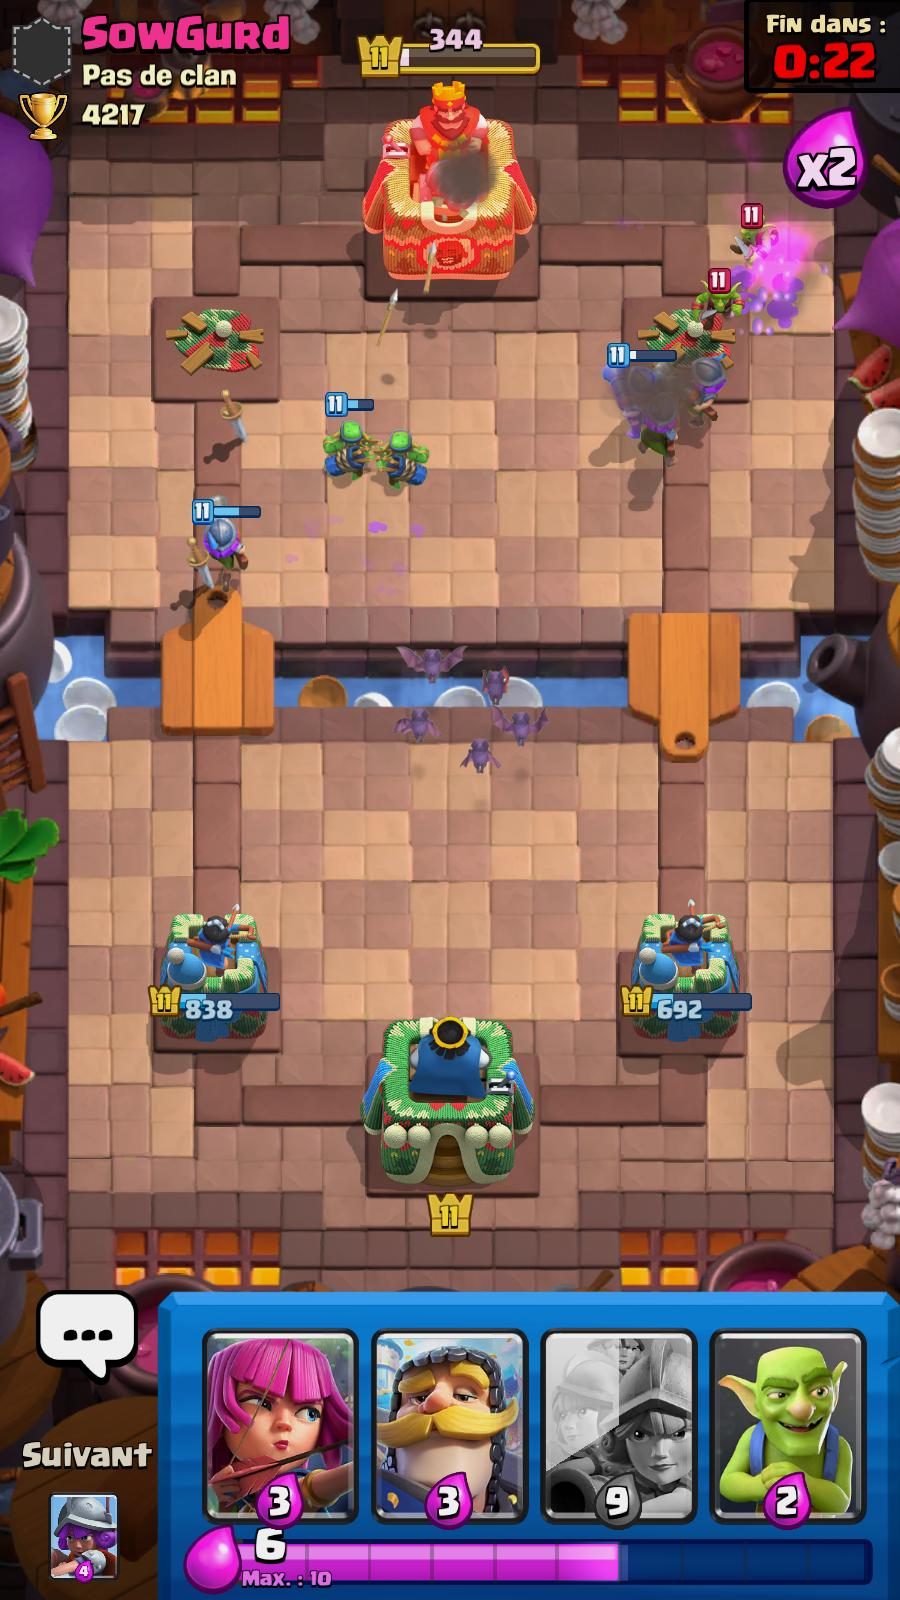gobelin: (735, 201, 779, 266), (698, 269, 746, 321)
gobelin_lances: (321, 389, 379, 480), (379, 425, 425, 501)
mousquetaire: (190, 499, 263, 580), (601, 343, 676, 415), (632, 390, 689, 475), (674, 348, 727, 425)
